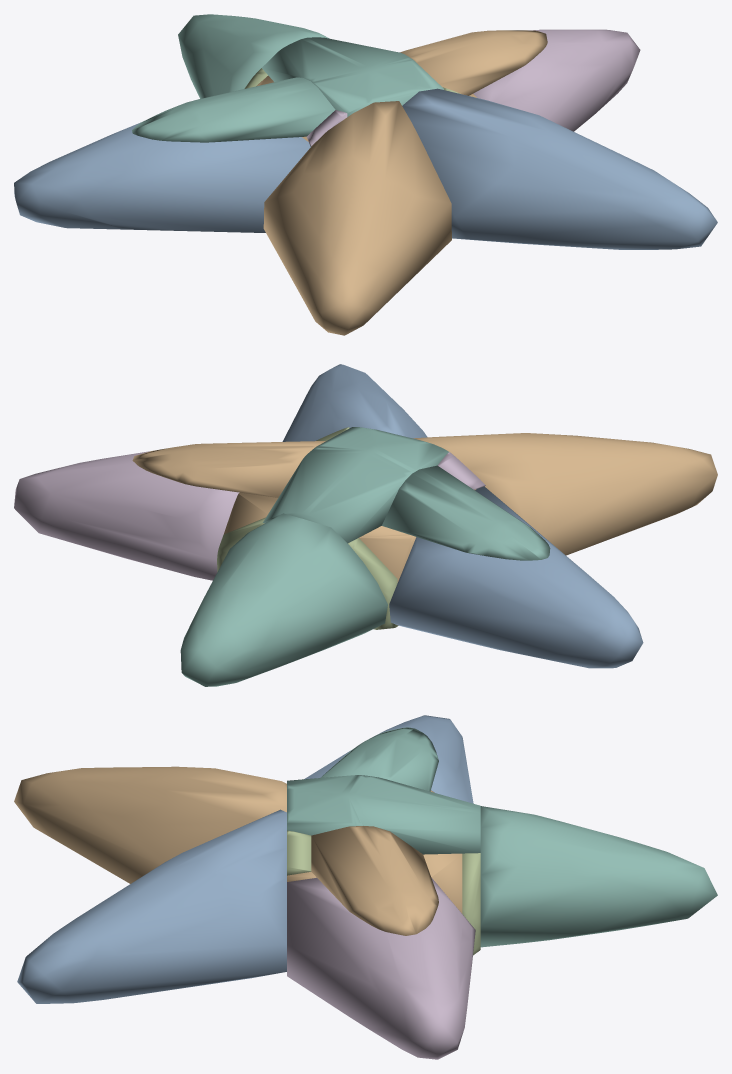
The picture shows the model from 3 angles, top to bottom: view 1: azimuth 30°, elevation 25°; view 2: azimuth 150°, elevation 25°; view 3: azimuth 270°, elevation 25°; orthographic projection. The views are drawn at different scales.
Bounding box in the file's own units: 1.8 × 0.3159 × 1.7.
